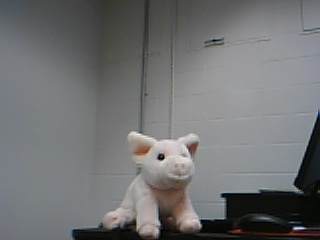piggy: (99, 129, 206, 240)
